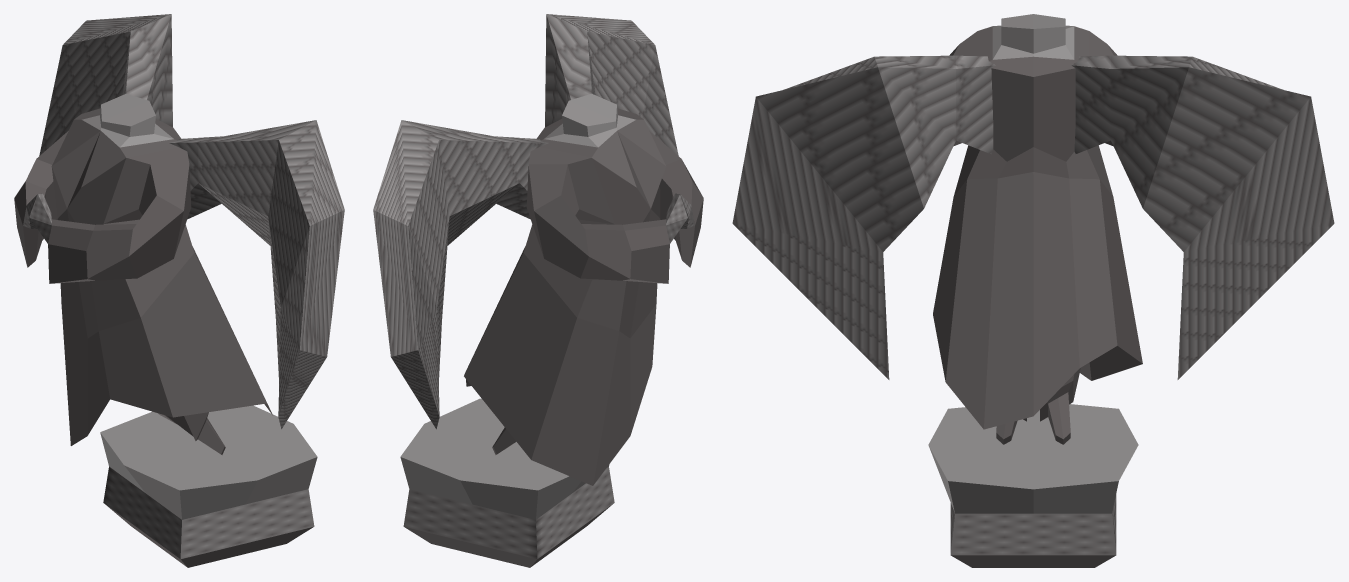
File: angel.glb
3 renders of one model, left to right at view 1: azimuth 30°, elevation 25°; view 2: azimuth 150°, elevation 25°; view 3: azimuth 270°, elevation 25°, orthographic. The views are drawn at different scales.
Parts seen in each view (by area): view 1: cuerpo.001, alas.001, Cube.001; view 2: cuerpo.001, alas.001, Cube.001; view 3: alas.001, cuerpo.001, Cube.001.
Boxes of the visible parts, x1,y1,x2,y2 form: cuerpo.001: [14, 93, 272, 454]; alas.001: [39, 14, 344, 429]; Cube.001: [100, 405, 317, 567]; cuerpo.001: [464, 93, 703, 485]; alas.001: [373, 14, 678, 429]; Cube.001: [400, 398, 614, 567]; alas.001: [732, 55, 1334, 379]; cuerpo.001: [933, 14, 1142, 444]; Cube.001: [928, 404, 1138, 567].
Size of the model in its own units: 2.14 by 3.55 by 3.93.
1 material, 1 textured.
